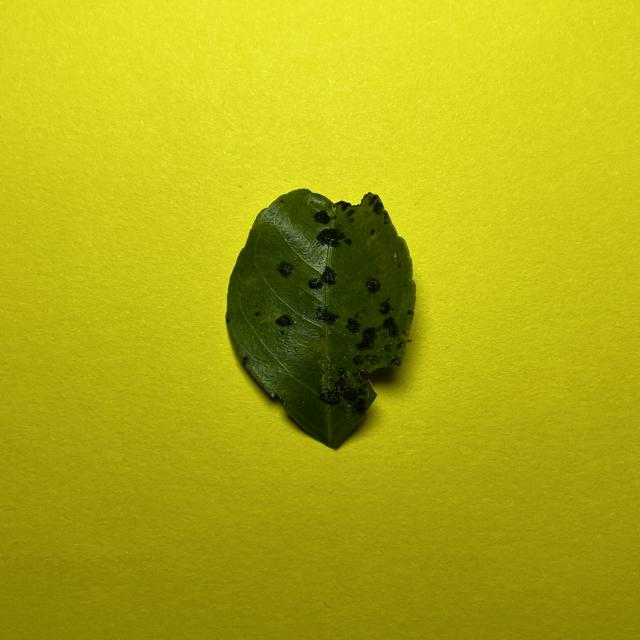sooty_mold: (226, 189, 415, 448)
